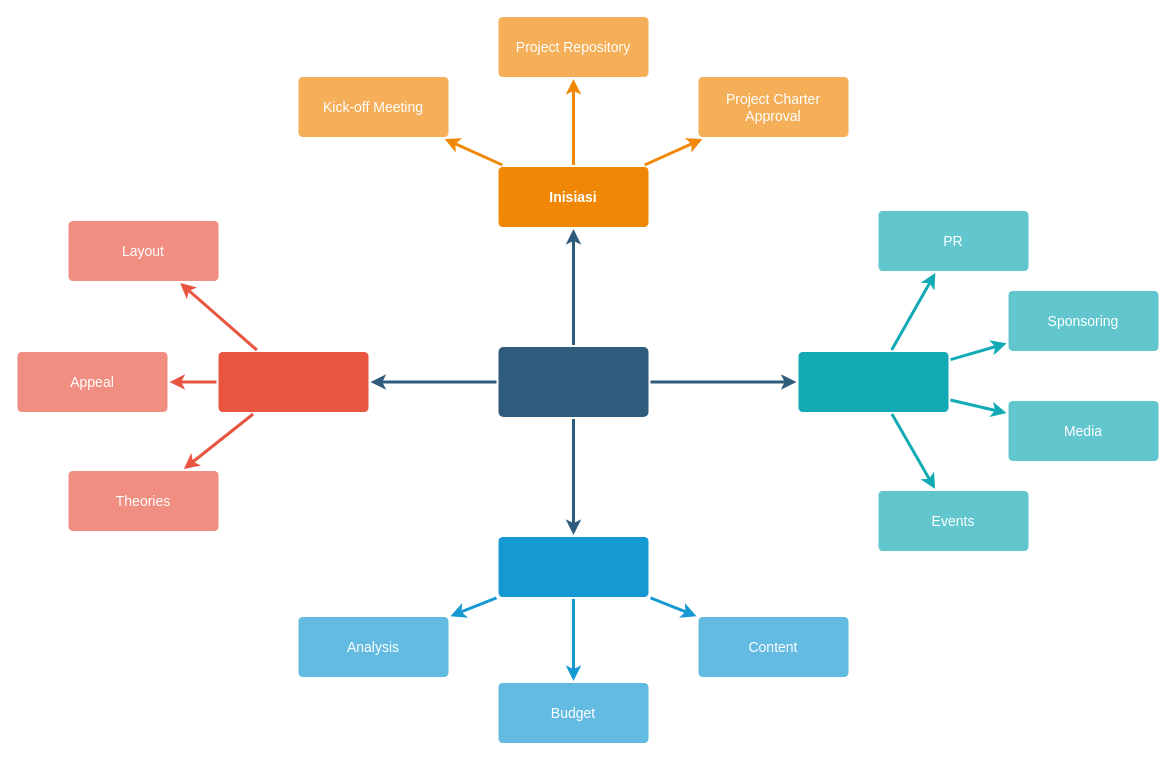
Some shapes in this 1175 by 760 pixel diagram are drawn without their labels. The shapes that lost their labels are listed below. From the top down, each one's centre as x and y in pixels, then its label:
the point at 293,382: Embassy
the point at 573,381: Pengembangan Aplikasi Mobile X
the point at 873,382: Communication
the point at 573,566: Organization
